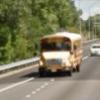buses: (39, 32, 83, 76)
